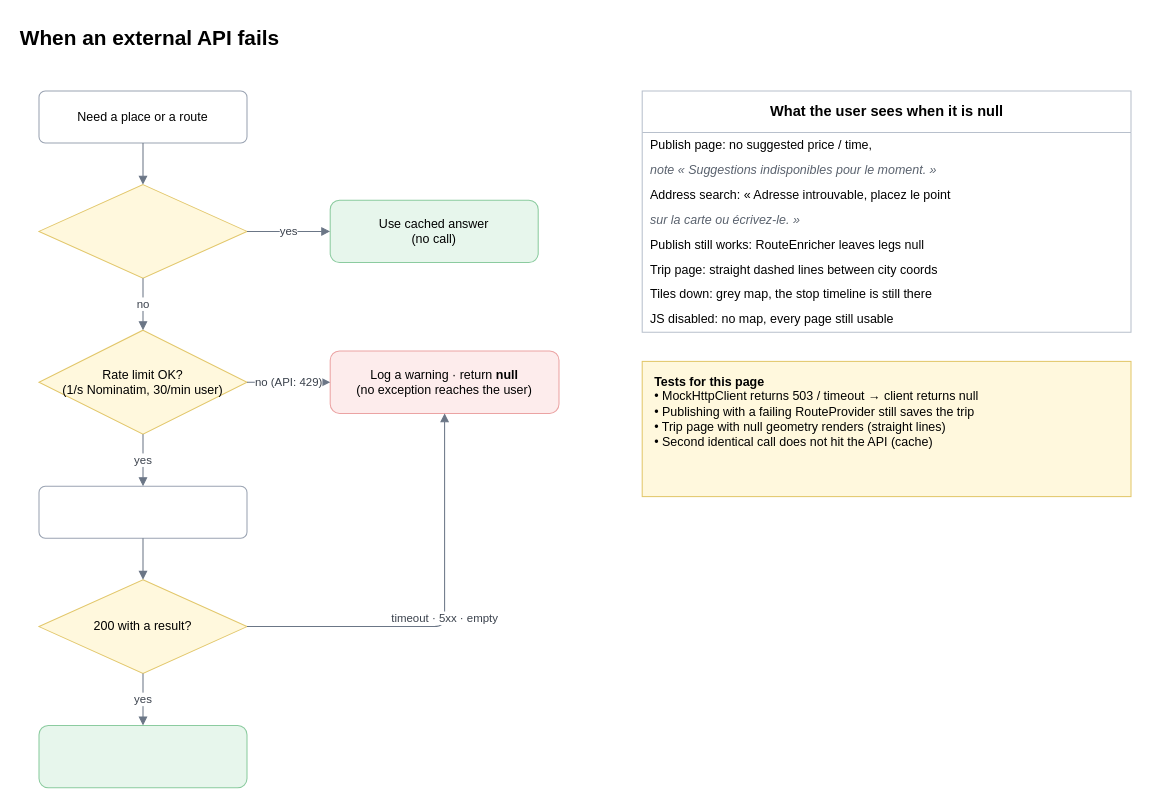
Image size: 1149x806. Some labels were removed from this diagram. The centre of each missing label's shape, as x and y in pixels:
"Call API (timeout 3 s)" goes at point 142,511.
"In geo.cache?" goes at point 142,231.
"Store in cache 30 days Return result" goes at point 142,756.
